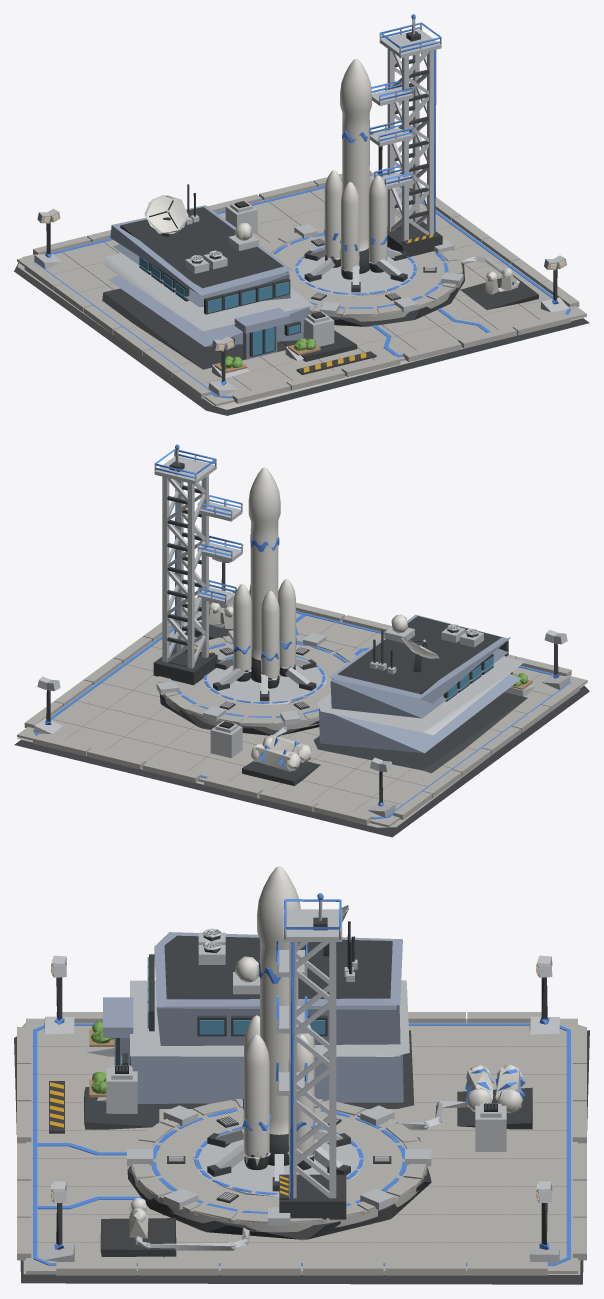
File: silo.glb
3 views of the same model, one above another, from view 1: azimuth 30°, elevation 25°; view 2: azimuth 150°, elevation 25°; view 3: azimuth 270°, elevation 25° (orthographic). The views are drawn at different scales.
Visible parts, largest first — view 1: Base, Rocket; view 2: Base, Rocket; view 3: Base, Rocket.
Part boxes in pixels (x1,y1,x2,y2): Base: (14,14,589,415); Rocket: (323,58,387,279); Base: (14,444,589,837); Rocket: (232,467,296,688); Base: (14,893,589,1284); Rocket: (242,866,315,1170).
Size of the model in its own units: 15.3 by 9.6 by 14.41.
